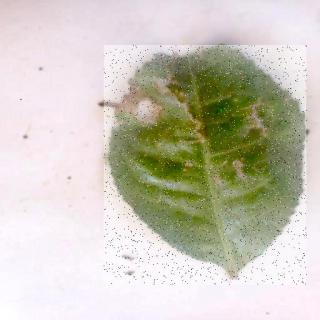Brown Blight: (106, 46, 309, 286)
